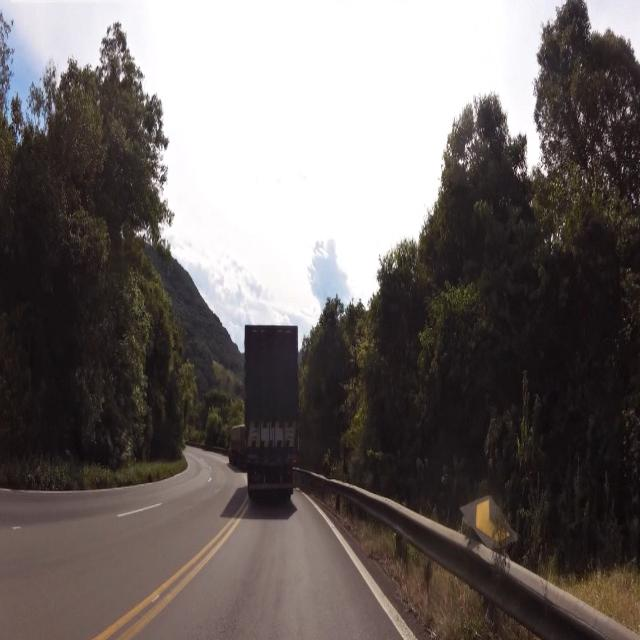Del: (458, 499, 527, 561)
